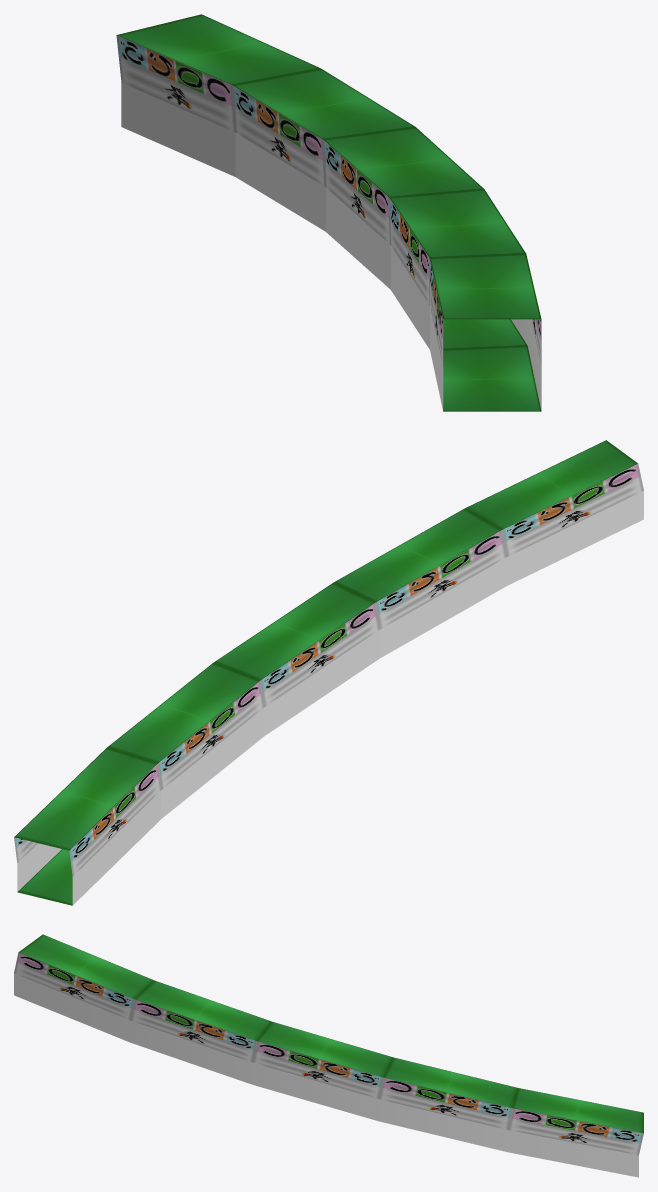
Rendered from CourseSpring_Box_Wall_R_8.fbx.
3 views of the same model, one above another, from view 1: azimuth 30°, elevation 25°; view 2: azimuth 150°, elevation 25°; view 3: azimuth 270°, elevation 25° (orthographic). The views are drawn at different scales.
Parts seen in each view (by area): view 1: polySurface51; view 2: polySurface51; view 3: polySurface51.
Part boxes in pixels (bbox=[...]): polySurface51: bbox=[116, 14, 541, 411]; polySurface51: bbox=[14, 440, 643, 905]; polySurface51: bbox=[14, 934, 643, 1177].
Size of the model in its own units: 8.54 by 6.98 by 25.62.
1 material, 1 textured.
